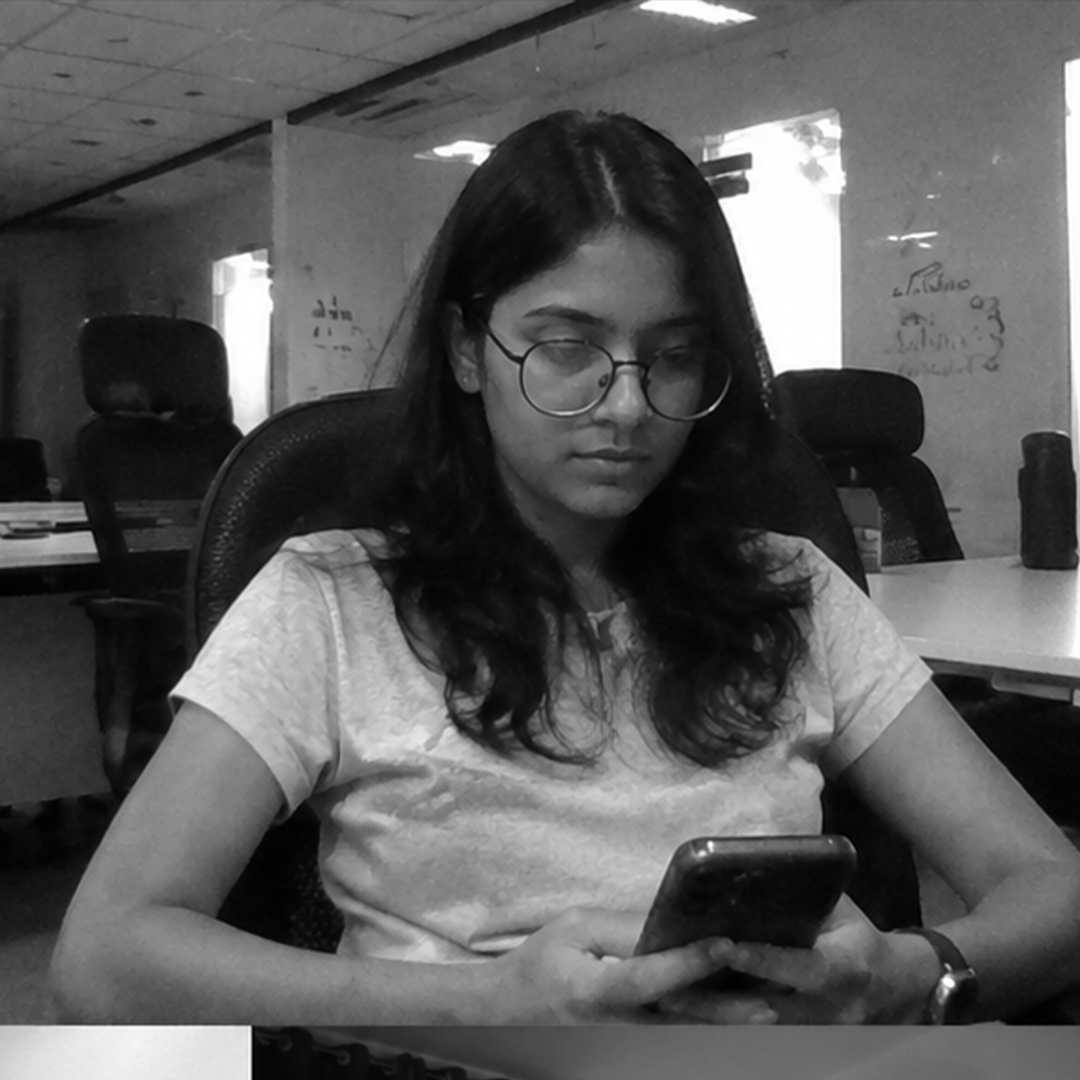distracted: (357, 89, 932, 987)
